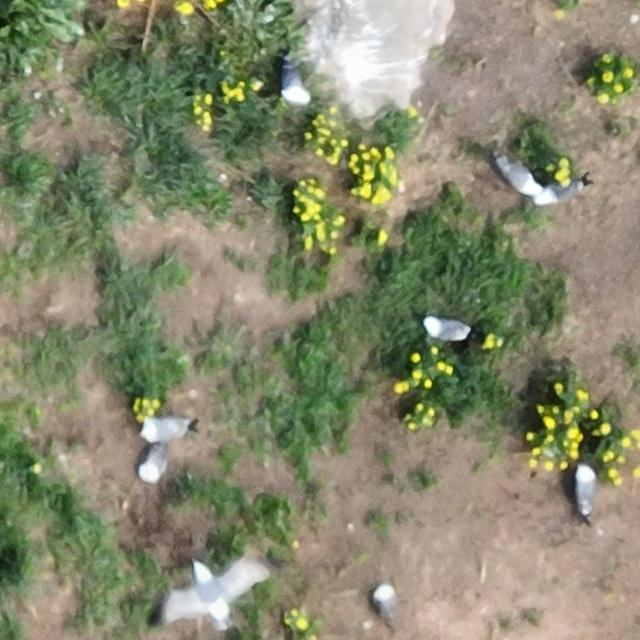F: (164, 556, 261, 627)
umineko: (282, 61, 314, 108), (533, 181, 587, 208), (140, 439, 170, 484), (501, 161, 538, 196), (575, 464, 597, 514), (375, 581, 400, 624), (142, 416, 188, 439), (424, 319, 469, 342)
